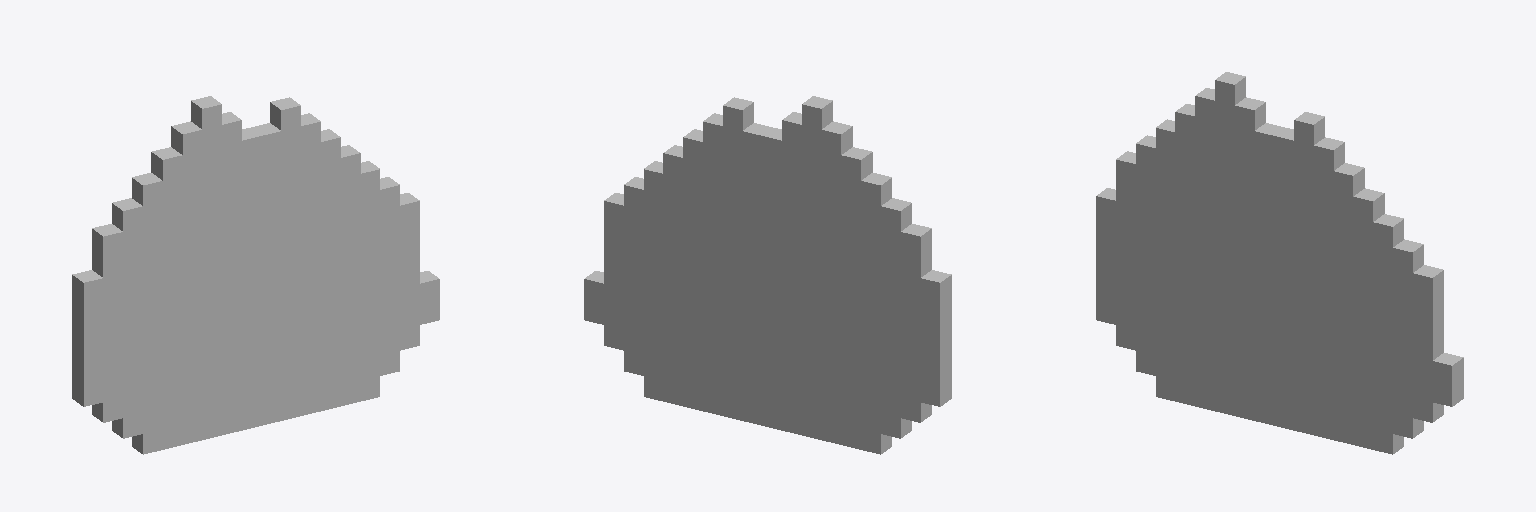
The model's file is PigHead-1-PigHead.obj.
The picture shows the model from 3 angles: view 1: azimuth 30°, elevation 25°; view 2: azimuth 150°, elevation 25°; view 3: azimuth 330°, elevation 25°; orthographic projection.
Visible parts, largest first — view 1: PigHead; view 2: PigHead; view 3: PigHead.
Part boxes in pixels (bbox=[...]): PigHead: bbox=[72, 96, 439, 454]; PigHead: bbox=[584, 96, 951, 454]; PigHead: bbox=[1096, 72, 1463, 454].
Size of the model in its own units: 1.8 by 1.6 by 0.1.